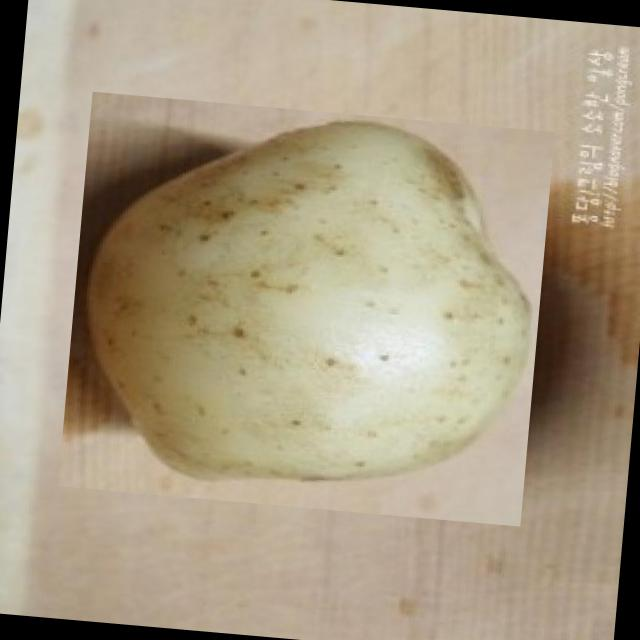Potato: (56, 91, 554, 526)
